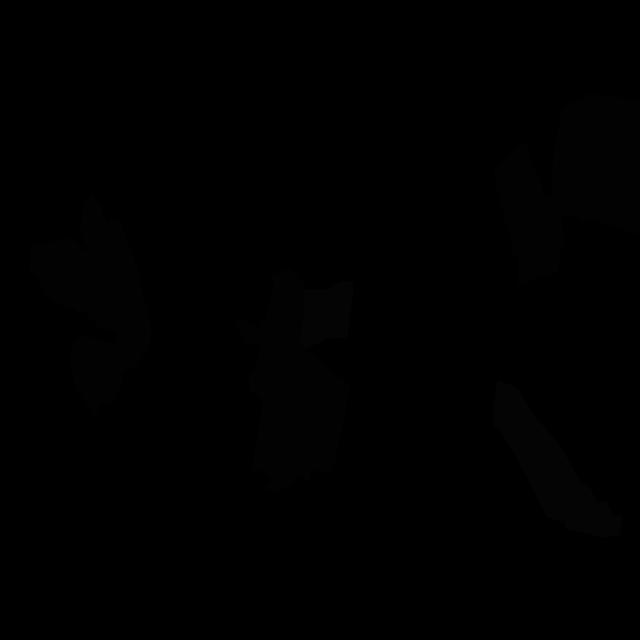cardboard: (29, 195, 152, 418), (235, 268, 350, 491), (552, 93, 640, 235), (493, 142, 564, 285)
soft_plastic: (493, 380, 623, 538), (300, 281, 354, 349)
